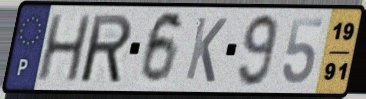5: (281, 16, 326, 86)
6: (136, 9, 187, 90)
9: (235, 12, 280, 90)
H: (34, 13, 94, 84)
K: (182, 14, 230, 85)
R: (80, 12, 134, 85)
